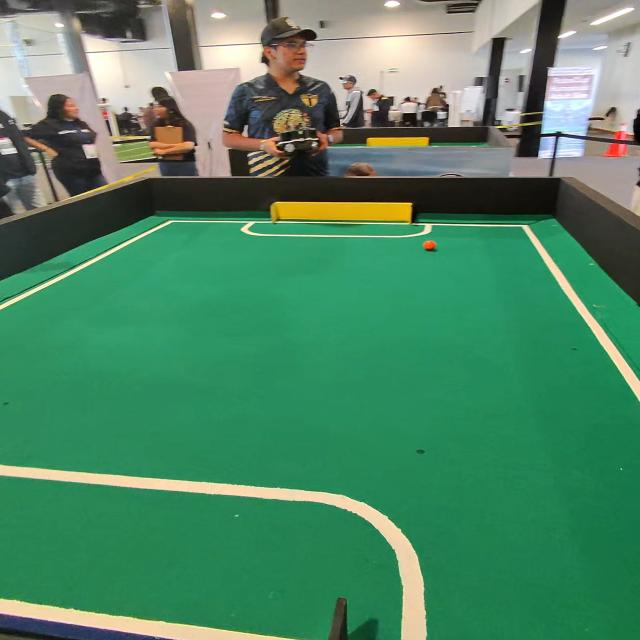pelota: (422, 240, 444, 258)
